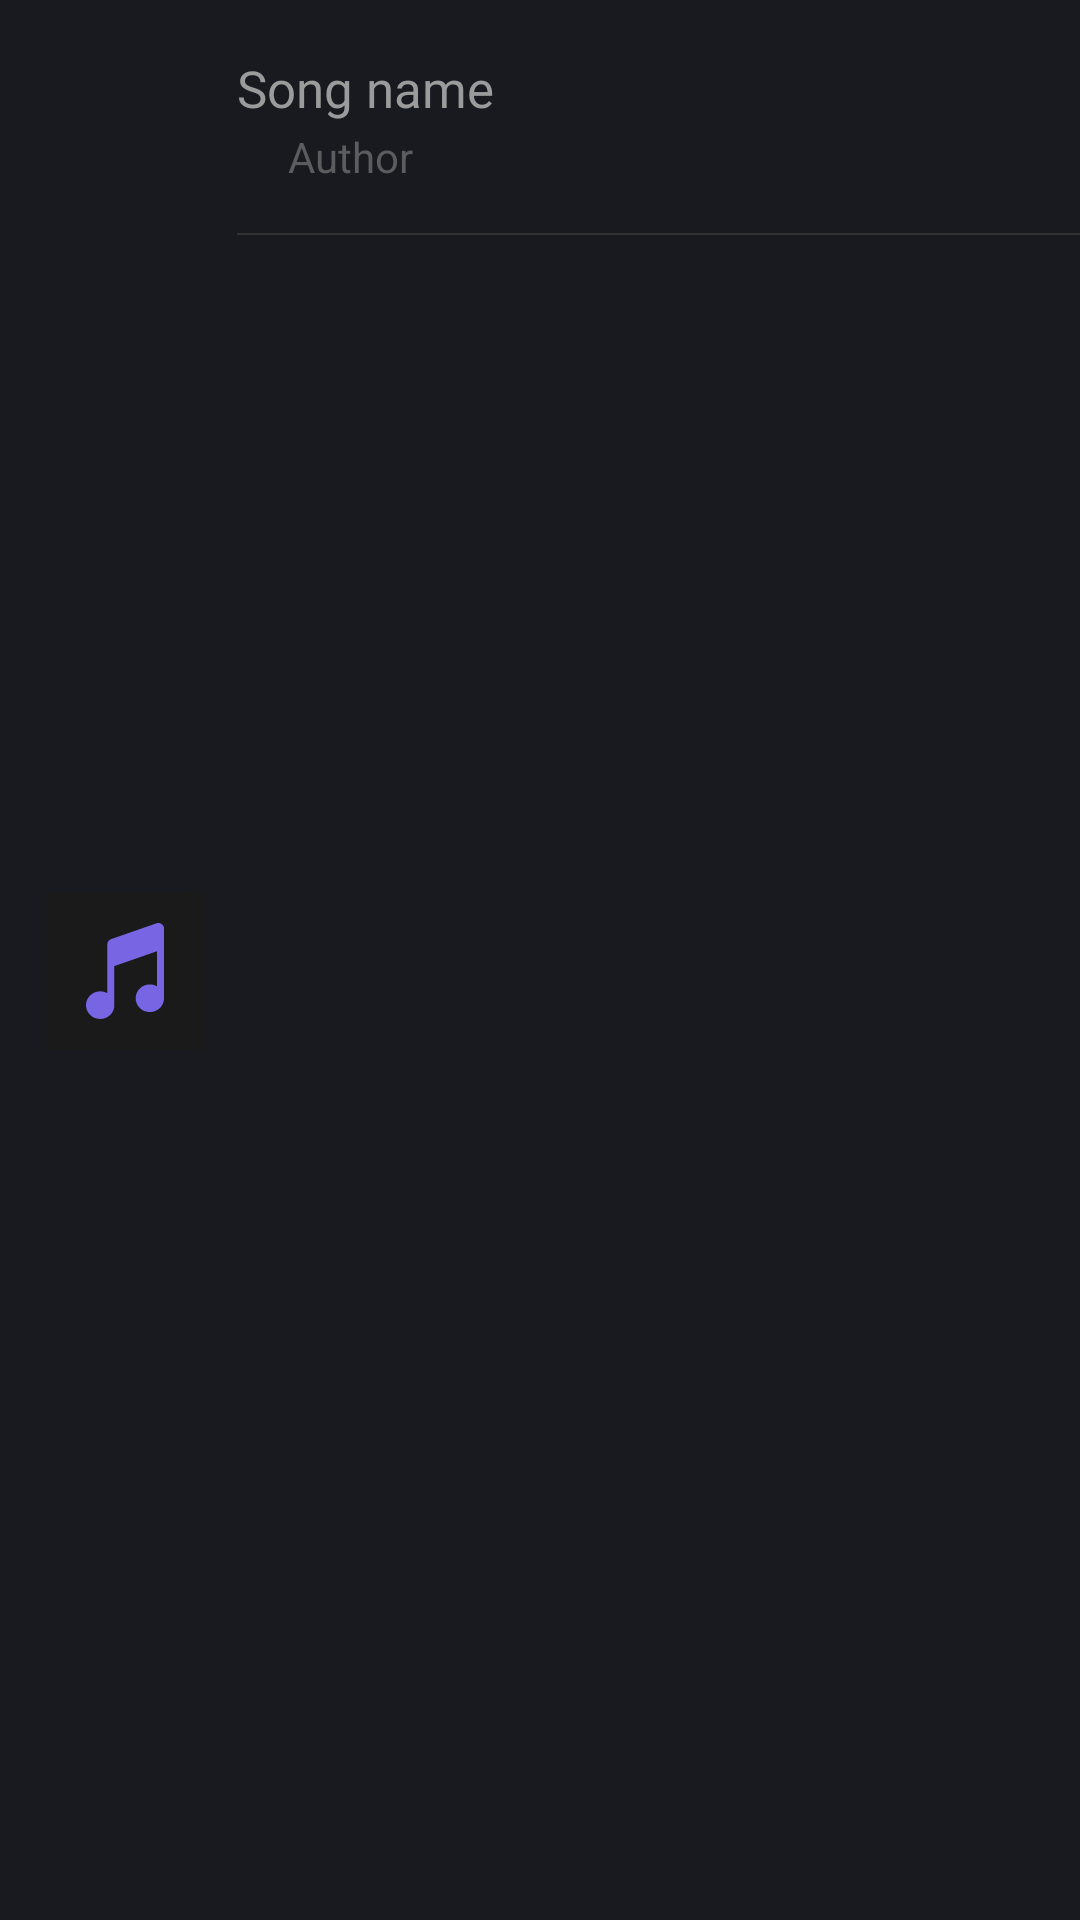

Named icons in this screenshot (1080 × 1920) and their centers, (x=x, y=y):
music sheet: (x=125, y=971)
